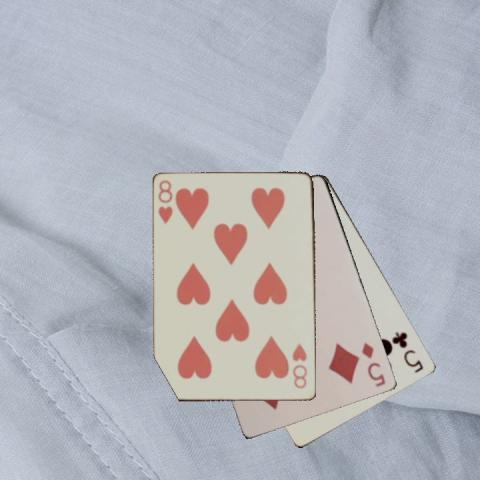5c: (390, 328, 425, 374)
5d: (360, 339, 388, 389)
8h: (289, 340, 310, 390), (156, 177, 175, 225)
